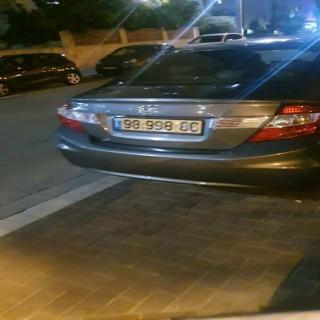LicensePlate: (121, 118, 201, 133)
